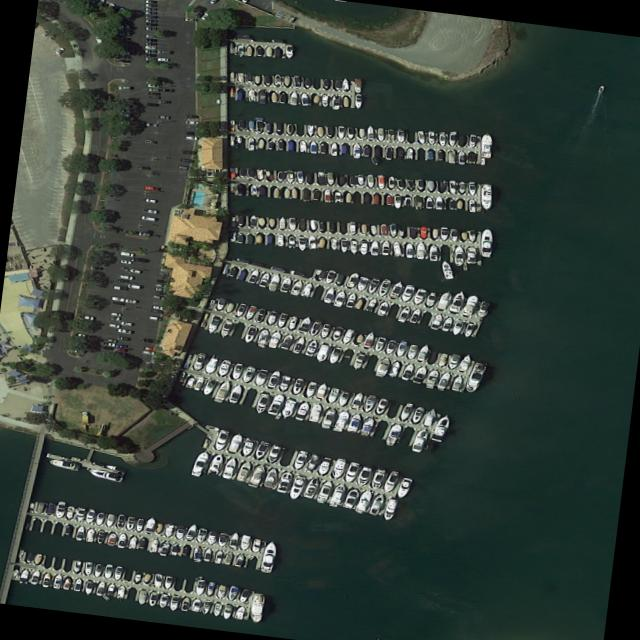ship: (462, 362, 487, 394), (86, 466, 122, 483), (258, 541, 277, 573), (188, 450, 209, 477), (351, 489, 373, 513), (210, 379, 231, 404), (381, 423, 402, 447), (245, 463, 265, 488), (329, 409, 349, 433), (247, 593, 263, 623), (285, 475, 304, 500), (326, 482, 345, 507), (409, 428, 428, 453), (46, 457, 79, 471), (379, 471, 400, 493), (459, 294, 479, 317), (446, 290, 466, 313), (264, 393, 284, 416), (317, 406, 336, 430), (431, 414, 451, 436), (340, 461, 359, 484), (273, 471, 292, 494), (301, 476, 320, 499), (366, 493, 385, 516), (328, 457, 347, 480), (478, 227, 492, 258), (393, 477, 412, 499), (233, 460, 251, 483), (219, 457, 237, 480), (250, 440, 269, 461), (251, 393, 270, 414), (353, 465, 371, 487), (277, 398, 295, 420), (211, 429, 229, 451), (372, 357, 390, 378), (341, 488, 359, 509), (261, 466, 279, 487), (357, 416, 375, 437), (206, 453, 224, 474), (433, 291, 452, 310), (290, 450, 308, 470), (315, 480, 332, 501), (381, 499, 397, 521), (225, 433, 242, 453), (368, 469, 384, 490), (315, 456, 331, 477), (408, 288, 426, 306), (473, 301, 490, 320), (238, 365, 255, 384), (455, 353, 472, 372), (386, 280, 403, 299), (410, 365, 427, 384), (434, 371, 451, 390), (359, 394, 376, 413), (420, 407, 437, 426), (226, 384, 243, 403), (313, 344, 329, 364), (264, 444, 280, 464), (345, 412, 361, 432), (293, 401, 309, 421), (444, 353, 461, 371), (199, 378, 216, 396), (189, 352, 205, 371), (349, 352, 365, 371), (422, 369, 438, 388), (238, 438, 254, 457), (479, 133, 491, 158), (295, 316, 312, 333), (414, 343, 430, 361), (215, 359, 231, 377), (264, 370, 280, 388), (398, 285, 414, 303), (216, 320, 232, 338), (265, 331, 281, 349), (289, 336, 305, 354), (479, 184, 490, 210), (241, 325, 256, 344), (287, 279, 303, 296), (330, 290, 346, 307), (343, 271, 359, 288), (395, 305, 410, 323), (202, 357, 217, 375), (375, 279, 390, 297), (204, 317, 219, 335), (326, 347, 341, 365), (289, 377, 304, 395), (324, 387, 339, 405), (348, 391, 363, 409), (397, 403, 412, 421), (307, 403, 321, 422), (320, 287, 335, 304), (427, 313, 442, 330), (449, 319, 464, 336), (252, 369, 267, 386), (364, 278, 379, 295), (278, 333, 293, 350), (302, 339, 317, 356), (276, 375, 291, 392), (312, 382, 327, 399), (303, 454, 318, 471), (372, 398, 387, 415), (409, 406, 424, 423), (266, 273, 280, 291), (439, 260, 452, 279), (103, 463, 125, 474), (255, 272, 270, 288), (254, 328, 269, 344), (399, 363, 414, 379), (278, 276, 292, 293), (307, 320, 321, 337), (361, 331, 375, 348), (393, 341, 407, 358), (183, 523, 197, 540), (451, 245, 462, 266), (245, 268, 259, 284), (460, 322, 474, 338), (242, 305, 256, 321), (329, 326, 343, 342), (371, 336, 385, 352), (383, 339, 397, 355), (423, 292, 437, 308), (354, 276, 368, 292), (386, 361, 400, 377), (335, 391, 349, 407), (229, 363, 242, 380), (302, 381, 315, 398), (237, 534, 250, 551), (53, 501, 65, 519), (374, 301, 388, 316), (339, 329, 353, 344), (343, 292, 356, 308), (439, 316, 452, 332), (434, 353, 447, 369), (252, 308, 265, 324), (264, 310, 277, 326), (404, 344, 417, 360), (449, 375, 462, 391), (225, 585, 238, 601), (142, 517, 155, 533), (363, 298, 377, 312), (299, 282, 312, 297), (407, 308, 420, 323), (322, 269, 335, 284), (166, 595, 178, 611), (156, 593, 168, 609), (237, 588, 249, 604), (194, 527, 206, 543), (193, 579, 204, 596), (213, 297, 226, 311), (465, 246, 475, 264), (233, 303, 245, 318), (192, 376, 204, 391), (157, 541, 169, 556), (73, 508, 85, 523), (318, 323, 329, 339), (227, 532, 238, 548), (135, 589, 146, 605), (73, 525, 84, 541), (114, 514, 125, 530), (221, 551, 233, 565), (233, 606, 245, 620), (39, 572, 50, 587), (81, 561, 92, 576), (111, 566, 122, 581), (126, 535, 137, 550), (115, 533, 126, 548), (83, 527, 94, 542), (83, 509, 94, 524), (162, 523, 173, 538), (215, 532, 226, 547), (179, 596, 189, 612), (102, 563, 112, 579), (275, 314, 286, 328), (285, 316, 296, 330), (249, 539, 260, 553), (105, 532, 116, 546), (93, 512, 104, 526), (414, 242, 423, 259), (428, 244, 437, 261), (211, 602, 221, 617), (146, 592, 156, 607), (94, 581, 104, 596), (51, 574, 61, 589), (28, 570, 38, 585), (18, 569, 28, 584), (91, 563, 101, 578), (215, 584, 225, 599), (221, 605, 231, 620), (124, 516, 134, 531), (191, 546, 200, 562), (189, 598, 200, 611), (147, 538, 157, 552), (104, 514, 114, 528), (133, 518, 143, 532), (173, 525, 183, 539), (205, 531, 215, 545), (286, 269, 303, 277), (268, 265, 285, 273), (369, 240, 378, 255), (379, 240, 388, 255), (403, 243, 412, 258), (152, 573, 161, 588), (83, 581, 92, 596), (200, 600, 209, 615), (115, 584, 124, 599), (183, 377, 195, 388), (233, 553, 243, 566), (439, 226, 447, 242), (351, 143, 359, 159), (306, 235, 315, 249), (391, 241, 400, 255), (162, 576, 171, 590), (201, 547, 210, 561), (213, 550, 222, 564), (205, 582, 214, 596), (71, 560, 80, 574), (64, 506, 73, 520), (236, 269, 246, 281), (223, 302, 233, 314), (288, 91, 296, 106), (330, 95, 338, 110), (353, 94, 361, 109), (298, 92, 307, 105), (105, 582, 114, 595), (95, 531, 104, 544), (378, 224, 386, 238), (387, 223, 395, 237), (467, 134, 475, 148), (333, 274, 343, 285), (594, 84, 605, 94), (316, 269, 326, 280), (34, 502, 44, 513), (316, 236, 325, 248), (310, 189, 319, 201), (61, 578, 70, 590), (9, 568, 18, 580), (23, 552, 32, 564), (32, 553, 41, 565), (233, 257, 248, 264), (296, 236, 303, 251), (376, 174, 383, 189), (353, 78, 360, 93), (365, 125, 372, 140), (284, 44, 291, 59), (329, 142, 336, 157), (385, 129, 393, 142), (291, 75, 299, 88), (246, 89, 254, 102), (132, 570, 140, 583), (72, 578, 80, 591), (234, 33, 251, 39), (226, 267, 236, 277), (369, 155, 379, 165), (140, 573, 150, 583), (353, 298, 362, 309), (339, 239, 346, 253), (449, 228, 456, 242), (457, 150, 464, 164), (447, 149, 454, 163), (426, 131, 433, 145), (416, 130, 423, 144), (395, 129, 402, 143), (246, 136, 253, 150), (392, 195, 399, 209), (384, 146, 391, 160), (375, 128, 382, 142), (257, 90, 264, 104), (336, 126, 343, 140), (247, 215, 255, 227), (308, 219, 316, 231), (425, 180, 433, 192), (297, 140, 305, 152), (394, 147, 402, 159), (418, 226, 425, 239), (467, 230, 474, 243), (277, 216, 284, 229), (287, 218, 294, 231), (295, 171, 302, 184), (316, 172, 323, 185), (325, 172, 332, 185), (386, 175, 393, 188), (457, 181, 464, 194), (447, 134, 454, 147), (467, 182, 474, 195), (467, 199, 474, 212), (434, 196, 441, 209), (322, 189, 329, 202), (340, 77, 347, 90), (273, 73, 280, 86), (345, 127, 352, 140), (308, 140, 315, 153), (254, 120, 261, 133), (305, 124, 312, 137), (90, 460, 103, 467), (349, 240, 355, 255), (366, 174, 372, 189), (415, 179, 423, 190), (277, 92, 285, 103), (361, 145, 369, 156), (137, 538, 145, 549), (154, 523, 162, 534), (359, 243, 366, 255), (348, 221, 354, 235), (395, 179, 402, 191), (424, 197, 431, 209), (467, 152, 474, 164), (437, 134, 444, 146), (301, 189, 308, 201), (324, 126, 331, 138), (368, 225, 376, 235), (256, 217, 264, 227), (405, 180, 413, 190), (409, 226, 415, 239), (298, 218, 304, 231), (448, 180, 454, 193), (236, 44, 242, 57), (255, 169, 262, 180), (271, 187, 278, 198), (244, 45, 251, 56), (269, 91, 276, 102), (285, 124, 292, 135), (276, 234, 282, 246), (329, 239, 335, 251), (287, 236, 293, 248), (285, 171, 291, 183), (405, 147, 411, 159), (320, 95, 326, 107), (336, 175, 344, 184), (359, 224, 366, 234), (254, 234, 261, 244), (455, 199, 462, 209), (371, 194, 378, 204), (282, 188, 289, 198), (264, 46, 271, 56), (362, 193, 369, 203), (274, 47, 281, 57), (62, 525, 69, 535), (246, 168, 252, 179), (276, 171, 282, 182), (356, 175, 362, 186), (344, 192, 350, 203), (290, 187, 296, 198), (249, 184, 255, 195), (341, 96, 347, 107), (333, 80, 339, 91), (263, 75, 269, 86), (357, 128, 363, 139), (318, 143, 324, 154), (256, 138, 262, 149), (246, 121, 252, 132), (254, 47, 261, 56), (425, 150, 432, 159), (430, 229, 436, 239), (265, 234, 271, 244), (447, 199, 453, 209), (333, 192, 339, 202), (321, 79, 327, 89), (236, 73, 242, 83), (282, 76, 288, 86), (303, 78, 309, 88), (236, 216, 242, 226), (245, 234, 251, 244), (316, 127, 322, 137), (276, 140, 282, 150), (286, 140, 292, 150), (235, 90, 241, 100), (348, 176, 354, 186), (270, 38, 282, 43), (317, 222, 323, 232), (69, 456, 79, 462), (459, 232, 466, 240), (311, 95, 318, 103), (436, 150, 441, 161), (236, 233, 241, 244), (267, 218, 273, 227), (258, 187, 264, 196), (238, 168, 243, 178), (236, 185, 241, 195), (385, 195, 390, 205), (245, 73, 250, 83), (237, 120, 242, 130), (264, 123, 269, 133), (274, 123, 280, 131), (339, 145, 345, 153), (253, 75, 258, 84), (266, 140, 271, 149), (313, 268, 320, 274), (235, 136, 241, 143), (479, 157, 484, 165), (253, 116, 262, 120)
small-vehicle: (139, 215, 154, 222), (116, 328, 131, 335), (79, 411, 87, 423), (116, 274, 132, 280), (143, 185, 158, 191), (141, 208, 156, 214), (112, 285, 127, 291), (191, 5, 202, 13), (53, 46, 64, 54), (130, 257, 144, 263), (143, 338, 157, 344), (147, 315, 161, 321), (75, 333, 89, 339), (93, 36, 102, 45), (40, 28, 50, 36), (104, 2, 114, 10), (143, 25, 156, 31), (179, 157, 192, 163), (177, 164, 190, 170), (150, 294, 163, 300), (79, 314, 92, 320), (100, 341, 113, 347), (115, 85, 130, 90), (118, 252, 133, 257), (154, 282, 166, 288), (199, 12, 208, 20), (143, 37, 157, 42), (94, 0, 104, 7), (183, 120, 197, 125), (110, 296, 124, 301), (143, 18, 156, 23), (143, 41, 156, 46), (144, 122, 157, 127), (136, 166, 149, 171), (156, 49, 169, 54), (123, 298, 136, 303), (105, 323, 118, 328), (116, 336, 129, 341), (126, 284, 139, 289), (195, 10, 203, 18), (142, 34, 157, 38), (137, 231, 149, 236), (184, 135, 196, 140), (181, 150, 193, 155), (143, 198, 155, 203), (156, 114, 168, 119), (145, 102, 157, 107), (150, 305, 162, 310), (103, 338, 115, 343), (140, 350, 152, 355), (47, 32, 55, 39), (142, 53, 156, 57), (144, 10, 155, 15), (186, 114, 197, 119), (150, 309, 161, 314), (142, 346, 153, 351), (119, 259, 130, 264), (128, 268, 139, 273), (119, 321, 130, 326), (144, 14, 157, 18), (143, 22, 156, 26), (143, 49, 156, 53), (143, 57, 156, 61), (143, 3, 156, 7), (146, 83, 159, 87), (183, 17, 196, 21), (114, 344, 127, 348), (148, 95, 158, 100), (144, 45, 156, 49), (144, 7, 156, 11), (147, 92, 159, 96), (147, 88, 159, 92), (159, 88, 171, 92), (111, 301, 123, 305), (88, 0, 97, 5), (117, 59, 128, 63), (117, 32, 128, 36), (156, 57, 167, 61), (154, 287, 165, 291), (206, 0, 217, 4), (117, 279, 127, 283), (109, 312, 119, 316), (143, 0, 156, 3), (157, 100, 169, 103), (82, 0, 90, 3), (240, 0, 246, 3)
